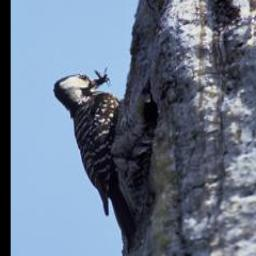Woodpecker: (53, 65, 158, 255)
